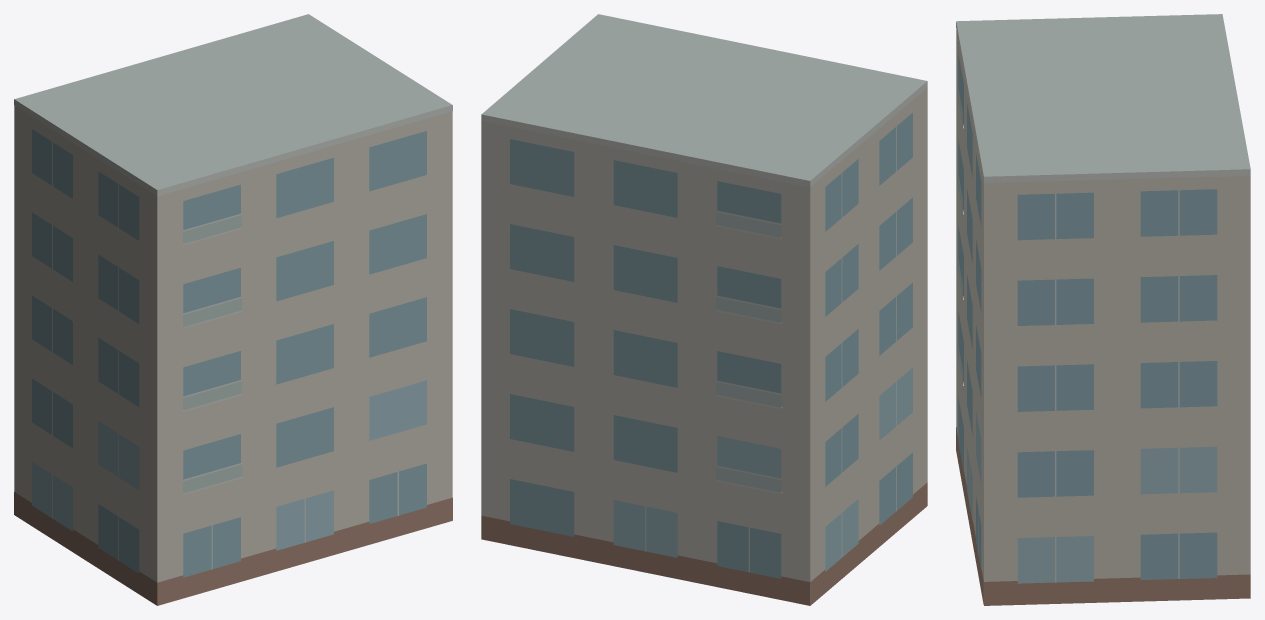
File: survey-upis-32703352.glb
3 renders of one model, left to right at view 1: azimuth 30°, elevation 25°; view 2: azimuth 150°, elevation 25°; view 3: azimuth 270°, elevation 25°, orthographic. The views are drawn at different scales.
Parts seen in each view (by area): view 1: survey-upis-32703352.tmp; view 2: survey-upis-32703352.tmp; view 3: survey-upis-32703352.tmp.
Boxes of the visible parts, x1,y1,x2,y2 form: survey-upis-32703352.tmp: [14, 14, 452, 605]; survey-upis-32703352.tmp: [481, 14, 927, 605]; survey-upis-32703352.tmp: [956, 14, 1250, 605].
Bounding box in the file's own units: 13.3 × 16.35 × 10.18.
